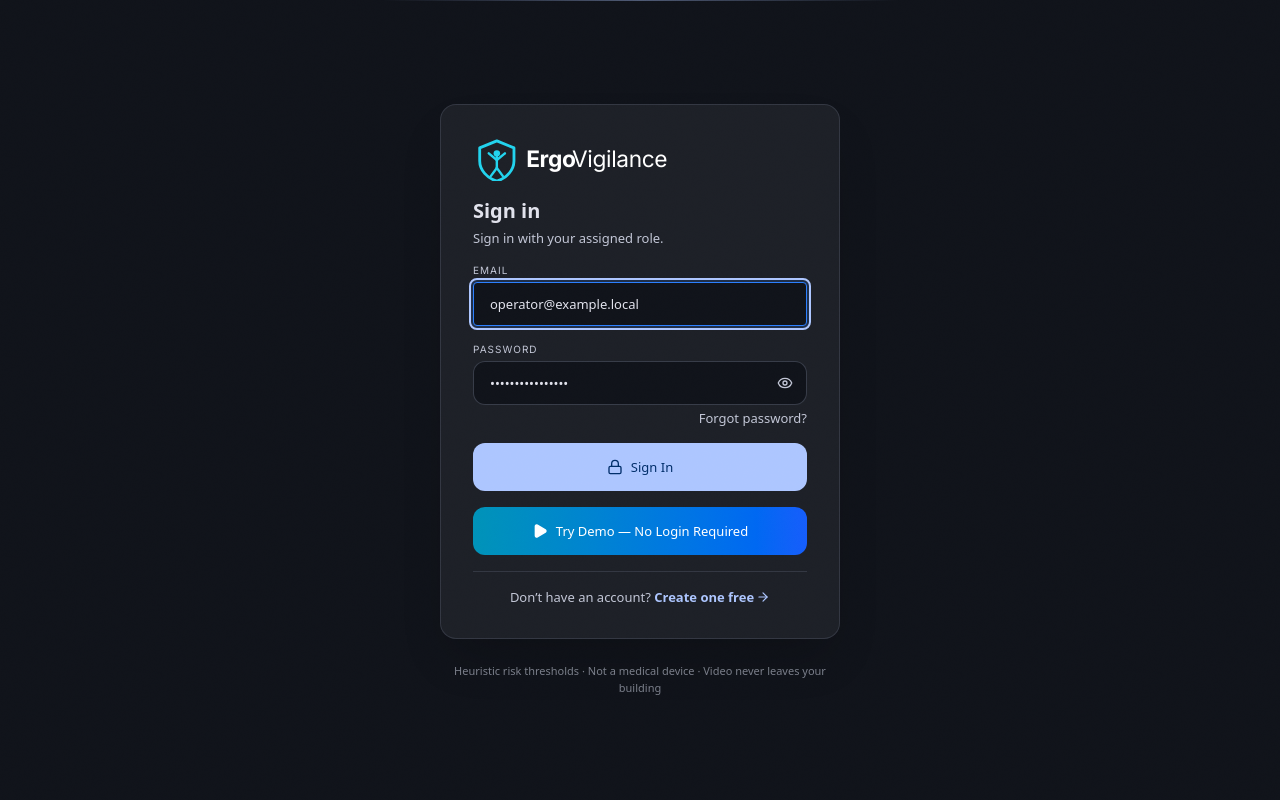
Scenario: frontend smoke › shows a friendly error when the backend is unreachable
Expected: the heading "Sign in" is shown, [473, 197, 540, 224]
Click the button "Sign In" at point(640, 467), box [473, 443, 807, 491]
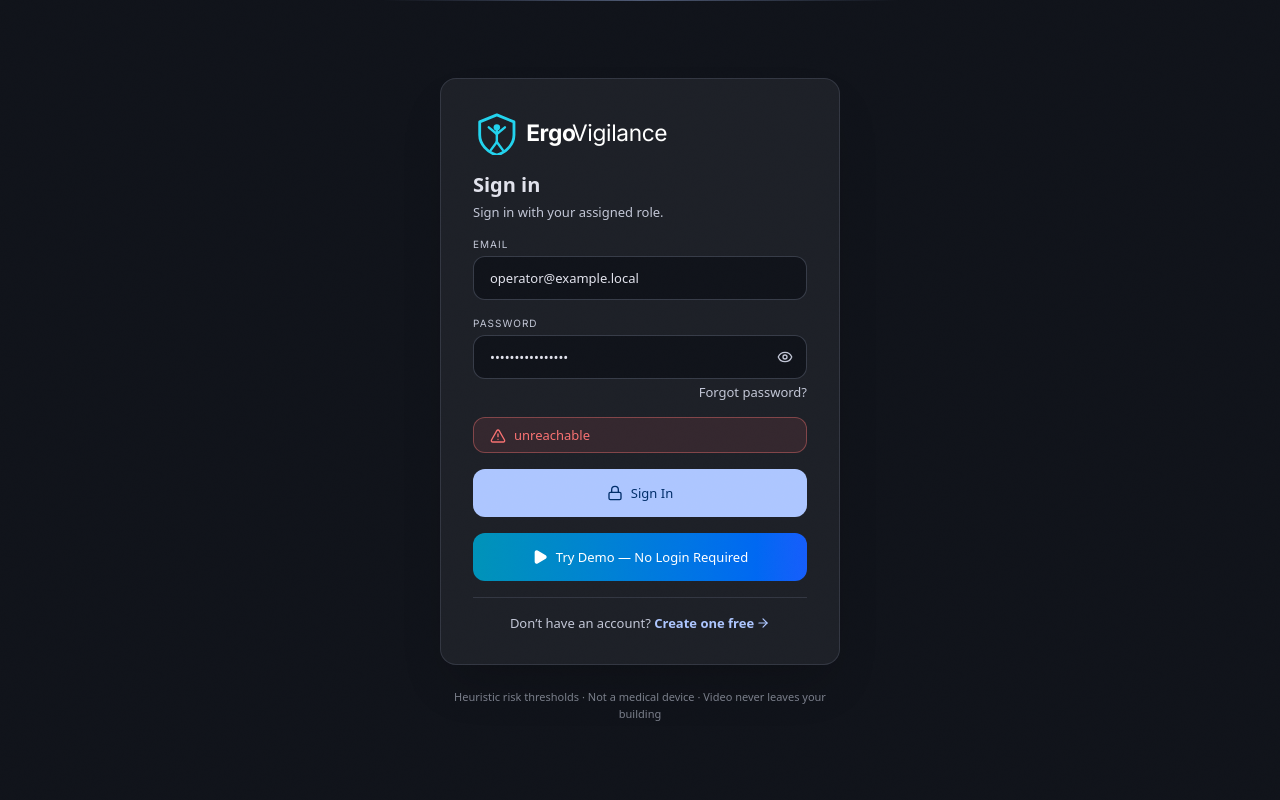
Expected: the message "unreachable" is shown, [473, 417, 807, 453]
